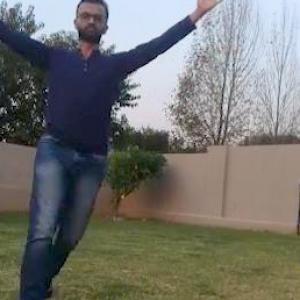takeoff: (0, 0, 211, 293)
